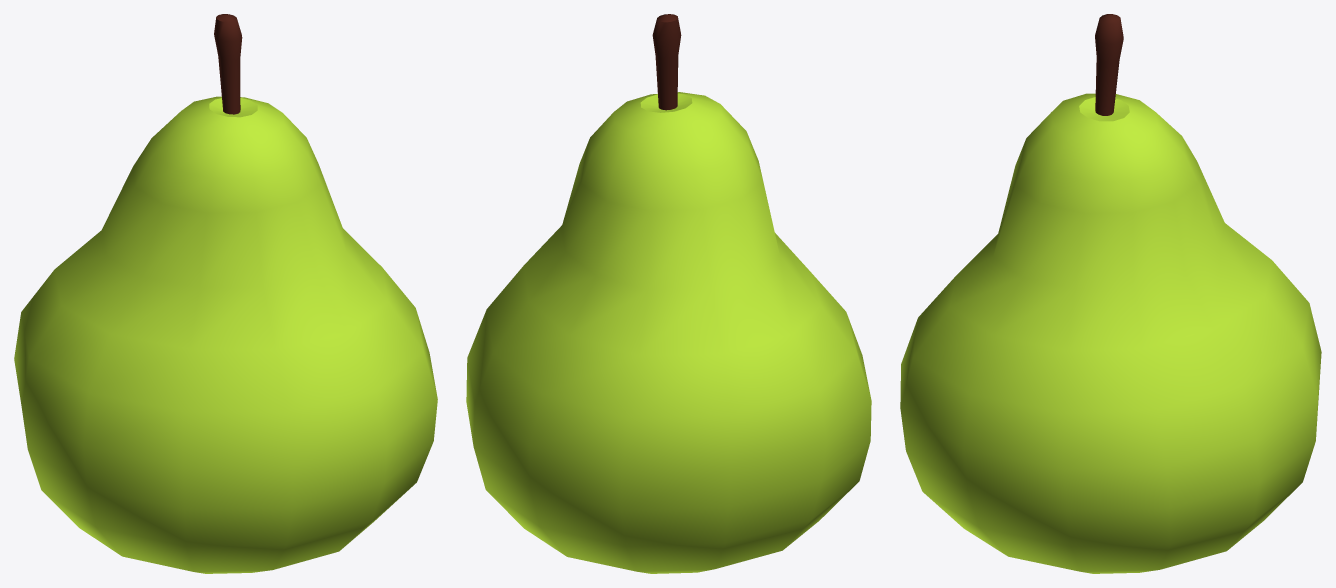
The model's file is Pera.fbx.
The picture shows the model from 3 angles, left to right: view 1: azimuth 30°, elevation 25°; view 2: azimuth 150°, elevation 25°; view 3: azimuth 270°, elevation 25°; orthographic projection.
Visible parts, largest first — view 1: Pera; view 2: Pera; view 3: Pera.
Part boxes in pixels (x1,y1,x2,y2): Pera: [14, 14, 437, 573]; Pera: [466, 14, 871, 573]; Pera: [900, 14, 1321, 573].
Size of the model in its own units: 9.61 by 13.64 by 9.68.
